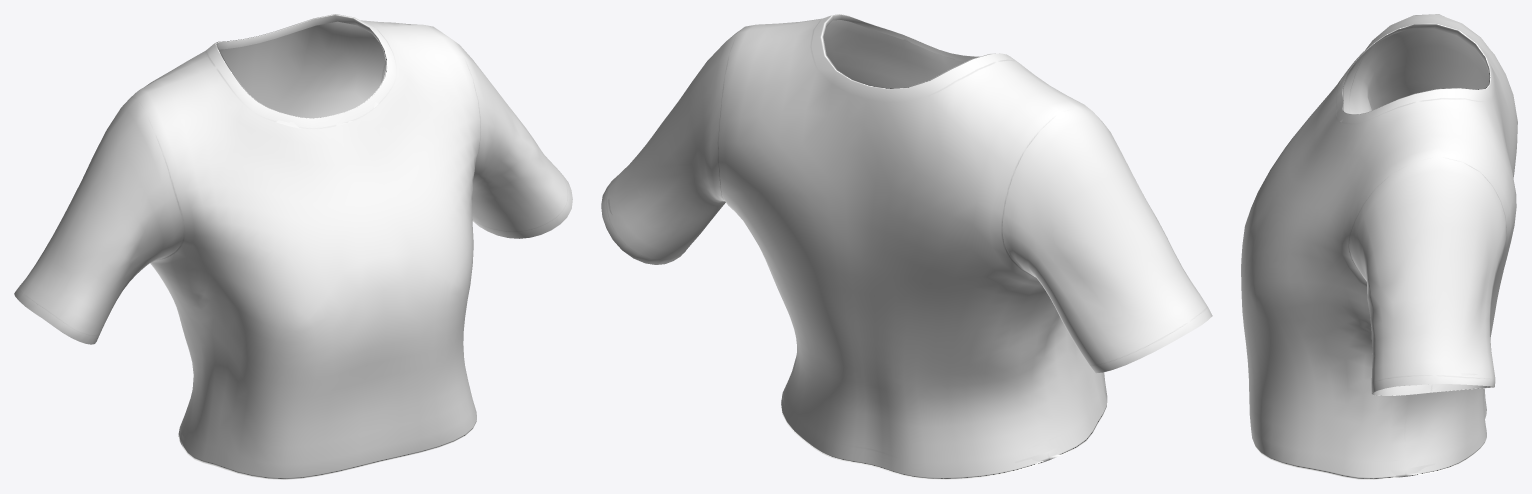
Rendered from nuSe.obj.
3 views of the same model, side by side, from view 1: azimuth 30°, elevation 25°; view 2: azimuth 150°, elevation 25°; view 3: azimuth 270°, elevation 25° (orthographic). The views are drawn at different scales.
Visible parts, largest first — view 1: Top_Low_obj; view 2: Top_Low_obj; view 3: Top_Low_obj.
Boxes of the visible parts, x1,y1,x2,y2 form: Top_Low_obj: (14,14,572,479); Top_Low_obj: (601,14,1212,479); Top_Low_obj: (1241,14,1517,479).
Size of the model in its own units: 33.18 by 22.05 by 14.97.
1 material, 1 textured.
